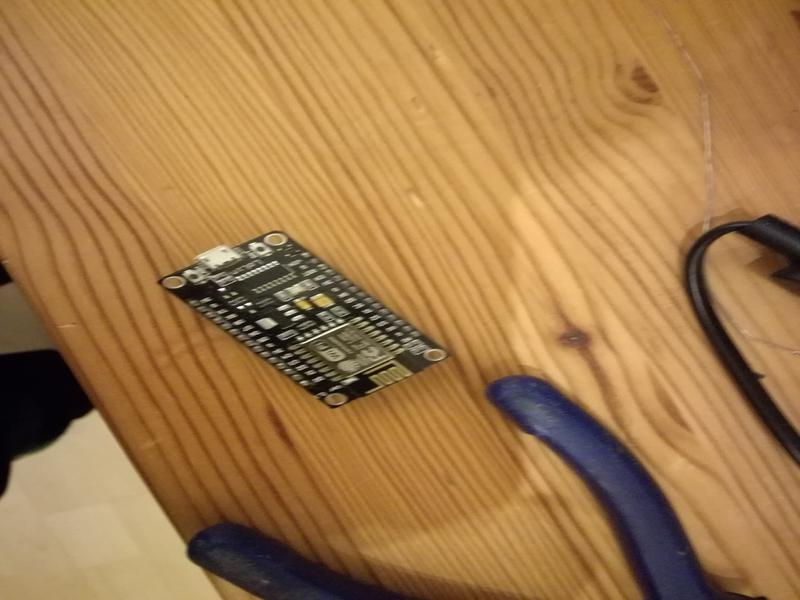ESP8266: (156, 226, 453, 416)
